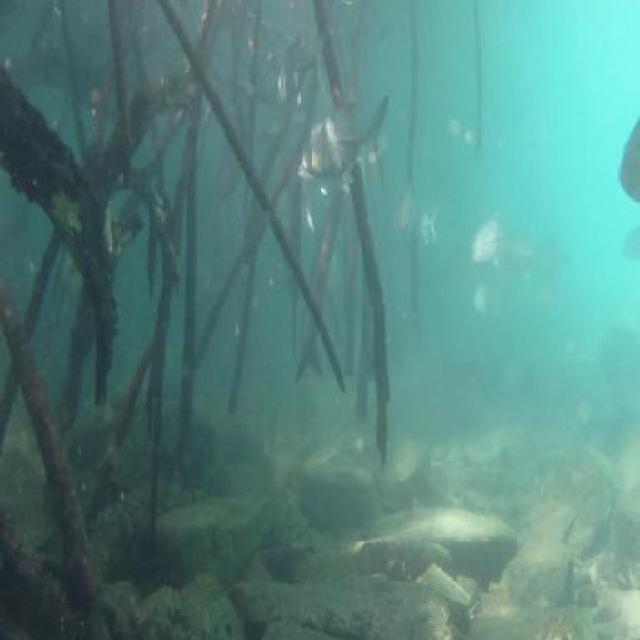Caranx_sexfasciatus_juvenile: (301, 100, 394, 202), (272, 28, 332, 109), (492, 224, 554, 288), (402, 182, 443, 270), (469, 192, 508, 270), (612, 118, 640, 216), (464, 266, 502, 332), (443, 104, 483, 164), (609, 212, 640, 271)
